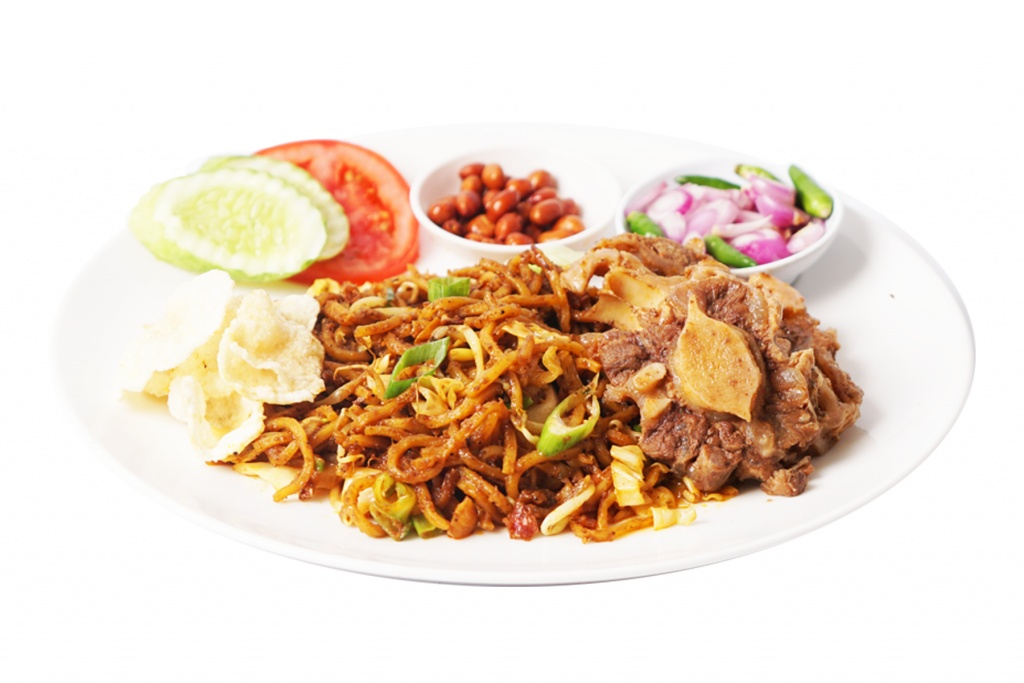mie_aceh: (159, 250, 669, 544)
